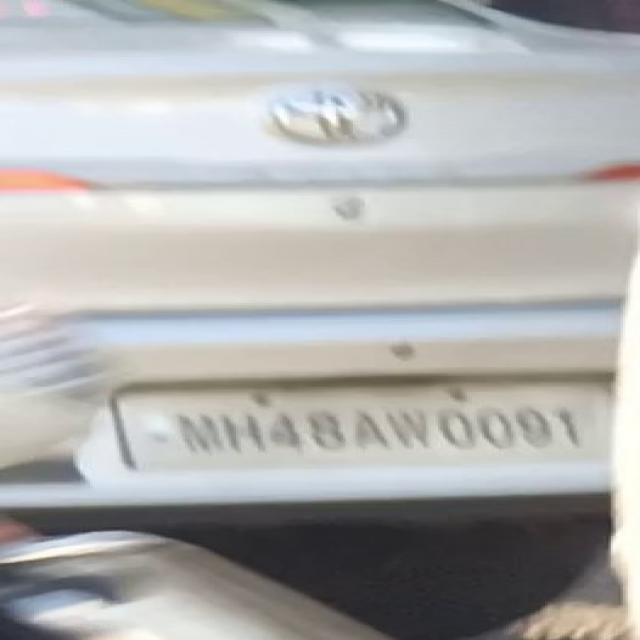Plate: (111, 373, 622, 472)
